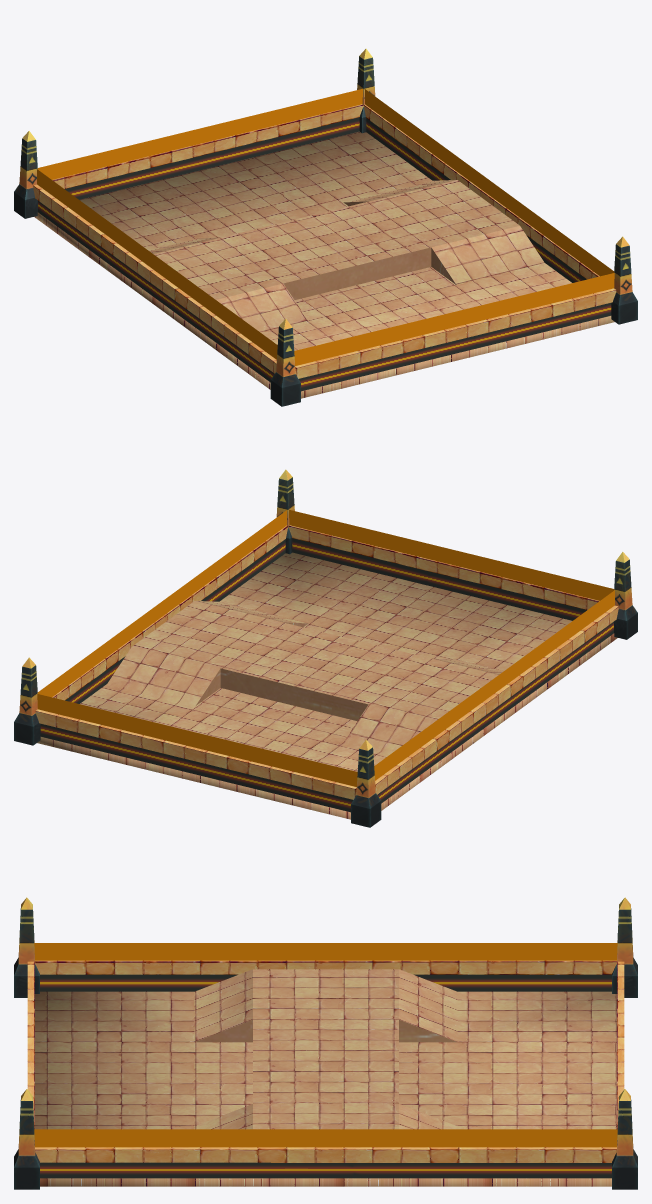
The model's file is Duel_Stage 35.fbx.
The picture shows the model from 3 angles, top to bottom: view 1: azimuth 30°, elevation 25°; view 2: azimuth 150°, elevation 25°; view 3: azimuth 270°, elevation 25°; orthographic projection. The views are drawn at different scales.
Visible parts, largest first — view 1: CR_Platform_Cube_Slope__2_, CR_Platform_Cube.016, Plane.144, Cube.098; view 2: CR_Platform_Cube_Slope__2_, CR_Platform_Cube.016, Plane.144, Cube.098; view 3: CR_Platform_Cube_Slope__2_, CR_Platform_Cube.016, Plane.144, Cube.098.
Boxes of the visible parts, x1,y1,x2,y2 form: CR_Platform_Cube_Slope__2_: [34, 131, 614, 398]; CR_Platform_Cube.016: [33, 104, 616, 391]; Plane.144: [37, 89, 614, 365]; Cube.098: [14, 48, 637, 406]; CR_Platform_Cube_Slope__2_: [37, 552, 617, 819]; CR_Platform_Cube.016: [35, 525, 618, 812]; Plane.144: [37, 510, 614, 786]; Cube.098: [14, 469, 637, 827]; CR_Platform_Cube_Slope__2_: [34, 969, 617, 1186]; CR_Platform_Cube.016: [27, 960, 624, 1178]; Plane.144: [34, 943, 617, 1147]; Cube.098: [14, 897, 637, 1189].
Size of the model in its own units: 3930 by 1296 by 5118.
